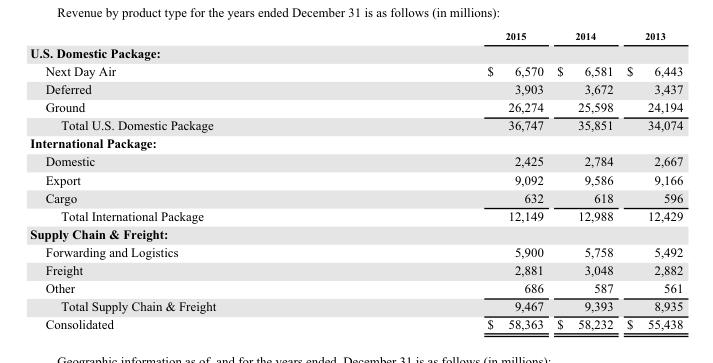table: (29, 28, 682, 332)
table column: (29, 28, 350, 332), (350, 28, 549, 332), (549, 28, 619, 332), (619, 28, 682, 332)
table column header: (29, 28, 682, 43)
table projected row header: (29, 43, 682, 61), (29, 133, 682, 151), (29, 224, 682, 242)
table row: (29, 169, 682, 188), (29, 43, 682, 61), (29, 61, 682, 79), (29, 79, 682, 97), (29, 97, 682, 115), (29, 115, 682, 133), (29, 133, 682, 151), (29, 151, 682, 169), (29, 188, 682, 206), (29, 206, 682, 224), (29, 224, 682, 242), (29, 242, 682, 260), (29, 260, 682, 278), (29, 278, 682, 296), (29, 296, 682, 314), (29, 314, 682, 332), (29, 28, 682, 43)
